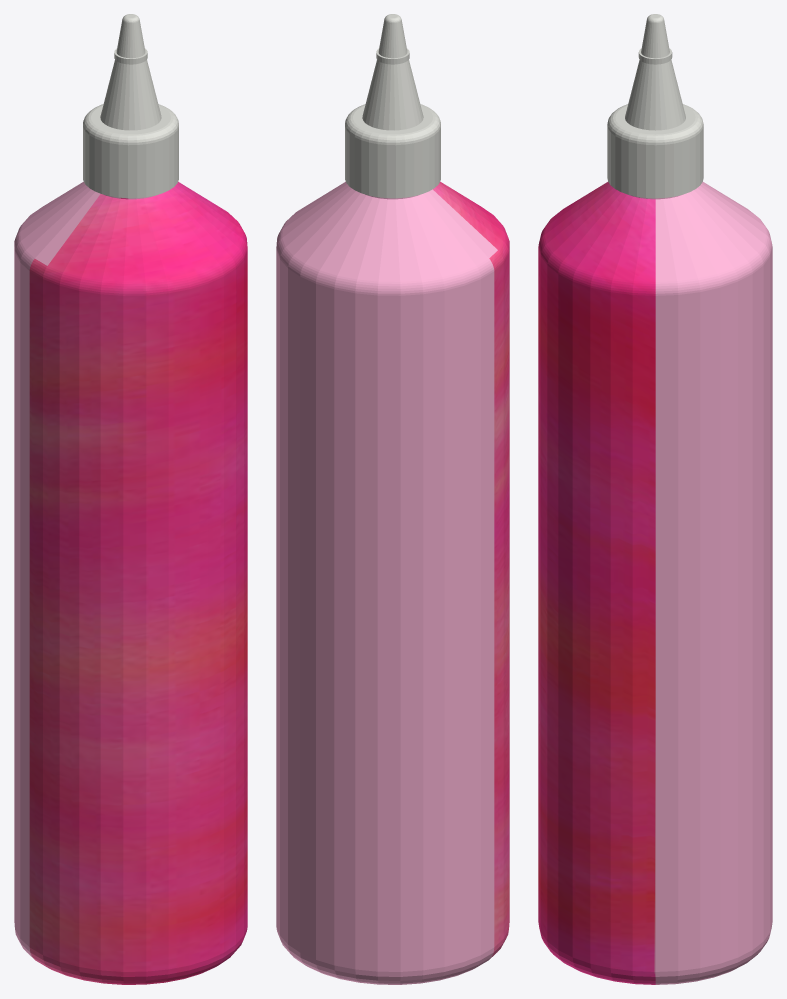
File: Long lotion package.glb
The picture shows the model from 3 angles, left to right: view 1: azimuth 30°, elevation 25°; view 2: azimuth 150°, elevation 25°; view 3: azimuth 270°, elevation 25°; orthographic projection.
Parts seen in each view (by area): view 1: Circle, Circle.001, Circle.002; view 2: Circle, Circle.001, Circle.002; view 3: Circle, Circle.001, Circle.002.
Boxes of the visible parts, x1,y1,x2,y2 form: Circle: (14,181,247,984); Circle.001: (83,60,178,198); Circle.002: (114,14,147,64); Circle: (276,181,509,984); Circle.001: (345,60,440,198); Circle.002: (376,14,409,64); Circle: (538,182,772,984); Circle.001: (607,60,703,198); Circle.002: (638,14,672,64).
Bounding box in the file's own units: 15.68 × 68.5 × 15.68.
3 materials, 3 textured.
